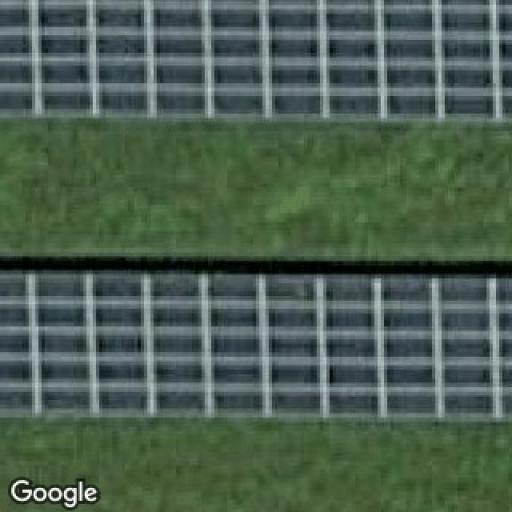solar-panel: (0, 272, 512, 422), (0, 0, 512, 115)
